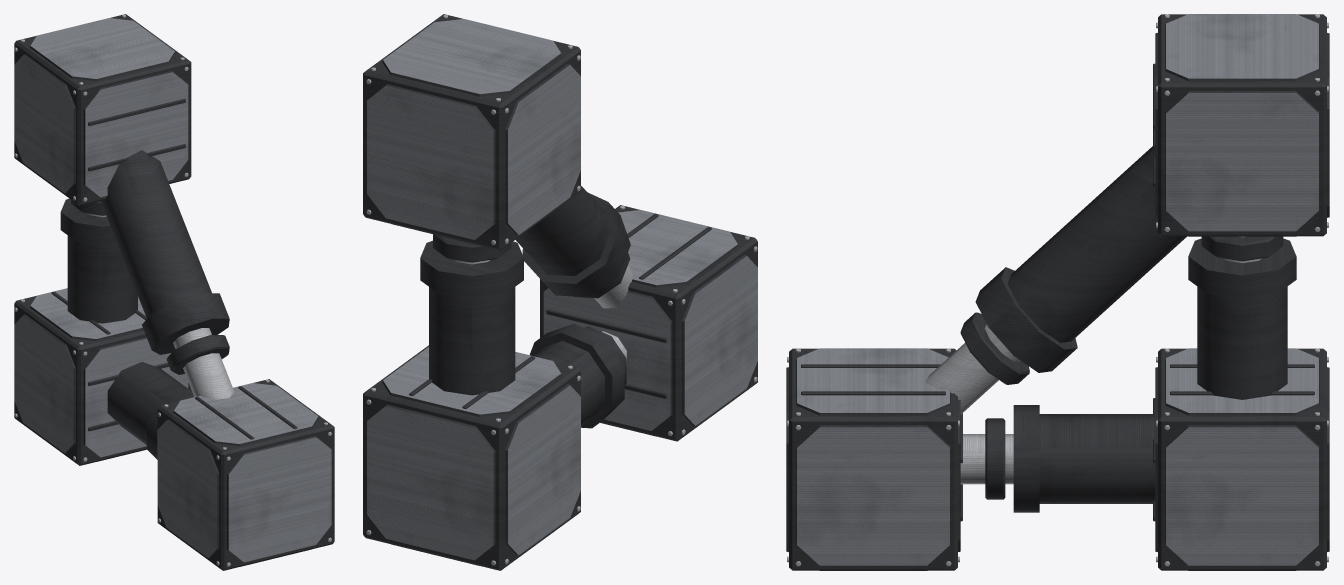
The model's file is R4C_STRUT_RAMP.glb.
The picture shows the model from 3 angles, left to right: view 1: azimuth 30°, elevation 25°; view 2: azimuth 150°, elevation 25°; view 3: azimuth 270°, elevation 25°; orthographic projection. The views are drawn at different scales.
Visible parts, largest first — view 1: R4C_STRUT_RAMP; view 2: R4C_STRUT_RAMP; view 3: R4C_STRUT_RAMP.
Part boxes in pixels (box(x1,y1,x2,y2)): R4C_STRUT_RAMP: box(14, 14, 334, 570); R4C_STRUT_RAMP: box(363, 14, 757, 570); R4C_STRUT_RAMP: box(786, 14, 1329, 570).
Size of the model in its own units: 0.52 by 1.62 by 1.62.
Materials: 4 (4 with a texture image).
